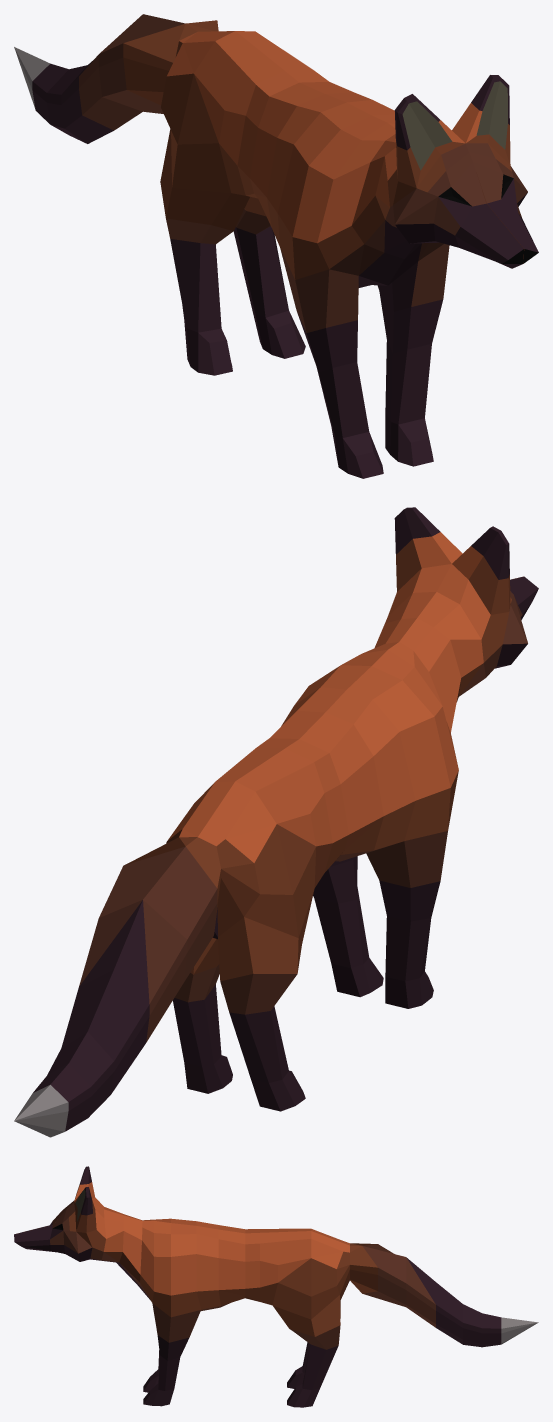
Rendered from fox.fbx.
The picture shows the model from 3 angles, top to bottom: view 1: azimuth 30°, elevation 25°; view 2: azimuth 150°, elevation 25°; view 3: azimuth 270°, elevation 25°; orthographic projection. The views are drawn at different scales.
Visible parts, largest first — view 1: Cube; view 2: Cube; view 3: Cube.
Part boxes in pixels (x1=…): Cube: x1=14, y1=14, x2=538, y2=478; Cube: x1=14, y1=507, x2=538, y2=1137; Cube: x1=14, y1=1166, x2=538, y2=1407.
Size of the model in its own units: 186 by 476 by 1037.
